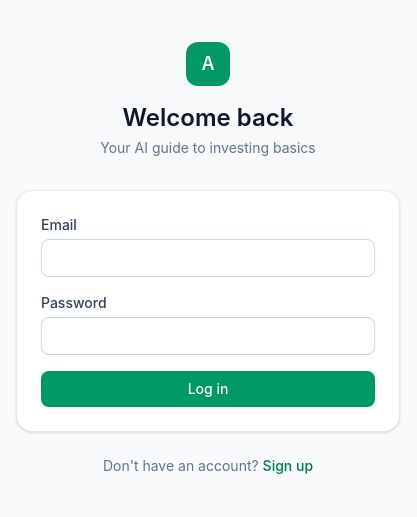
Test: login › shows the server error for bad credentials
Type "me@example.com" into the field labelled "Email" at (208, 258), box [41, 239, 375, 277]
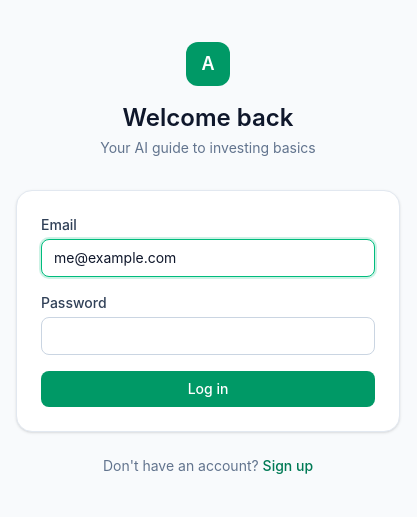
Type "wrong-password" into the password field labelled "Password" at (208, 336), box [41, 317, 375, 355]
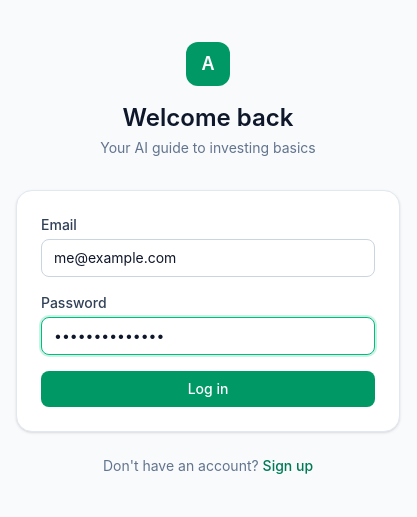
Click the button "Log in" at (208, 389), box [41, 371, 375, 407]
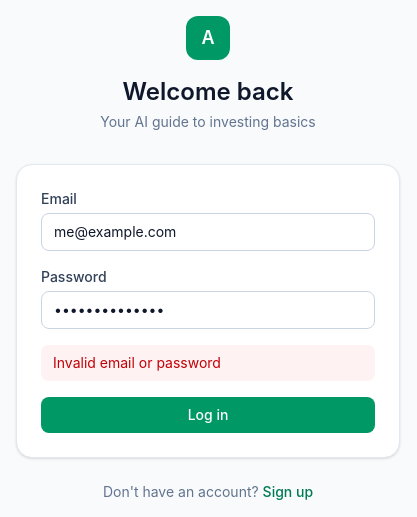
Expected: the text "Invalid email or password" is shown, [41, 345, 375, 381]
